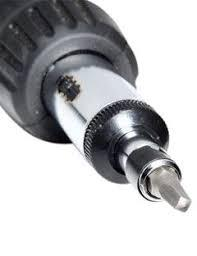screwdriver: (148, 166, 191, 213)
